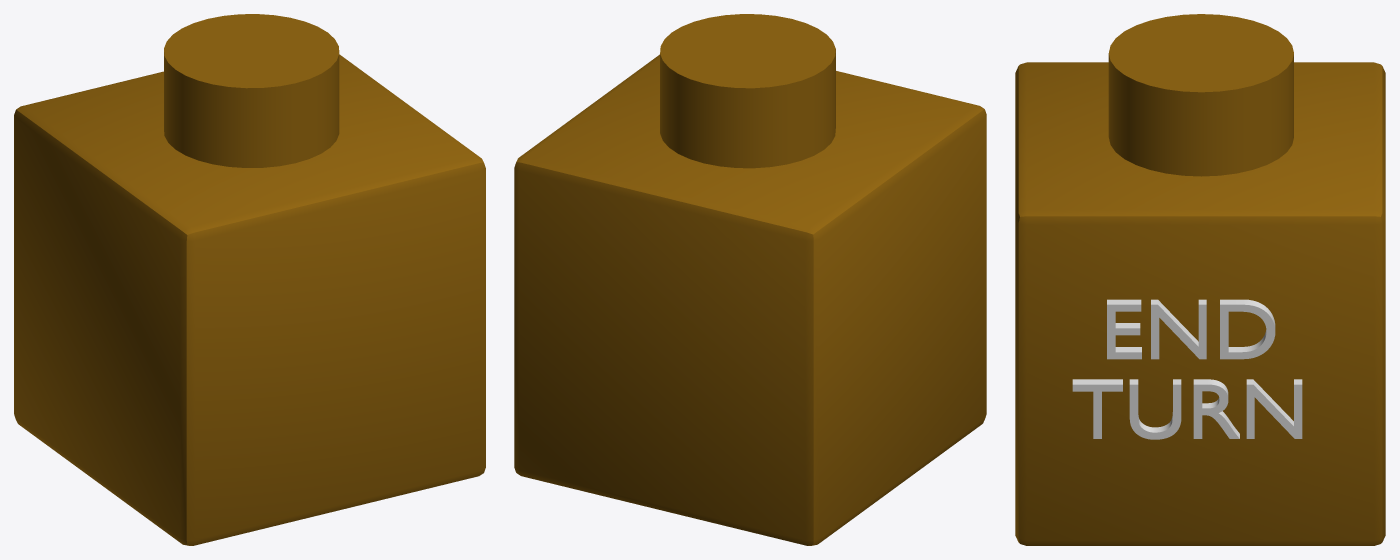
The model's file is ENDTurn.fbx.
The picture shows the model from 3 angles, left to right: view 1: azimuth 30°, elevation 25°; view 2: azimuth 150°, elevation 25°; view 3: azimuth 270°, elevation 25°; orthographic projection. The views are drawn at different scales.
Parts seen in each view (by area): view 1: Cube, Cylinder; view 2: Cube, Cylinder; view 3: Cube, Cylinder, Text.001.
Boxes of the visible parts, x1,y1,x2,y2 form: Cube: [14, 54, 485, 545]; Cylinder: [164, 14, 339, 167]; Cube: [514, 54, 986, 545]; Cylinder: [660, 14, 835, 168]; Cube: [1015, 62, 1385, 545]; Cylinder: [1108, 14, 1293, 176]; Text.001: [1072, 299, 1302, 439].
Bounding box in the file's own units: 207 × 250 × 200.
